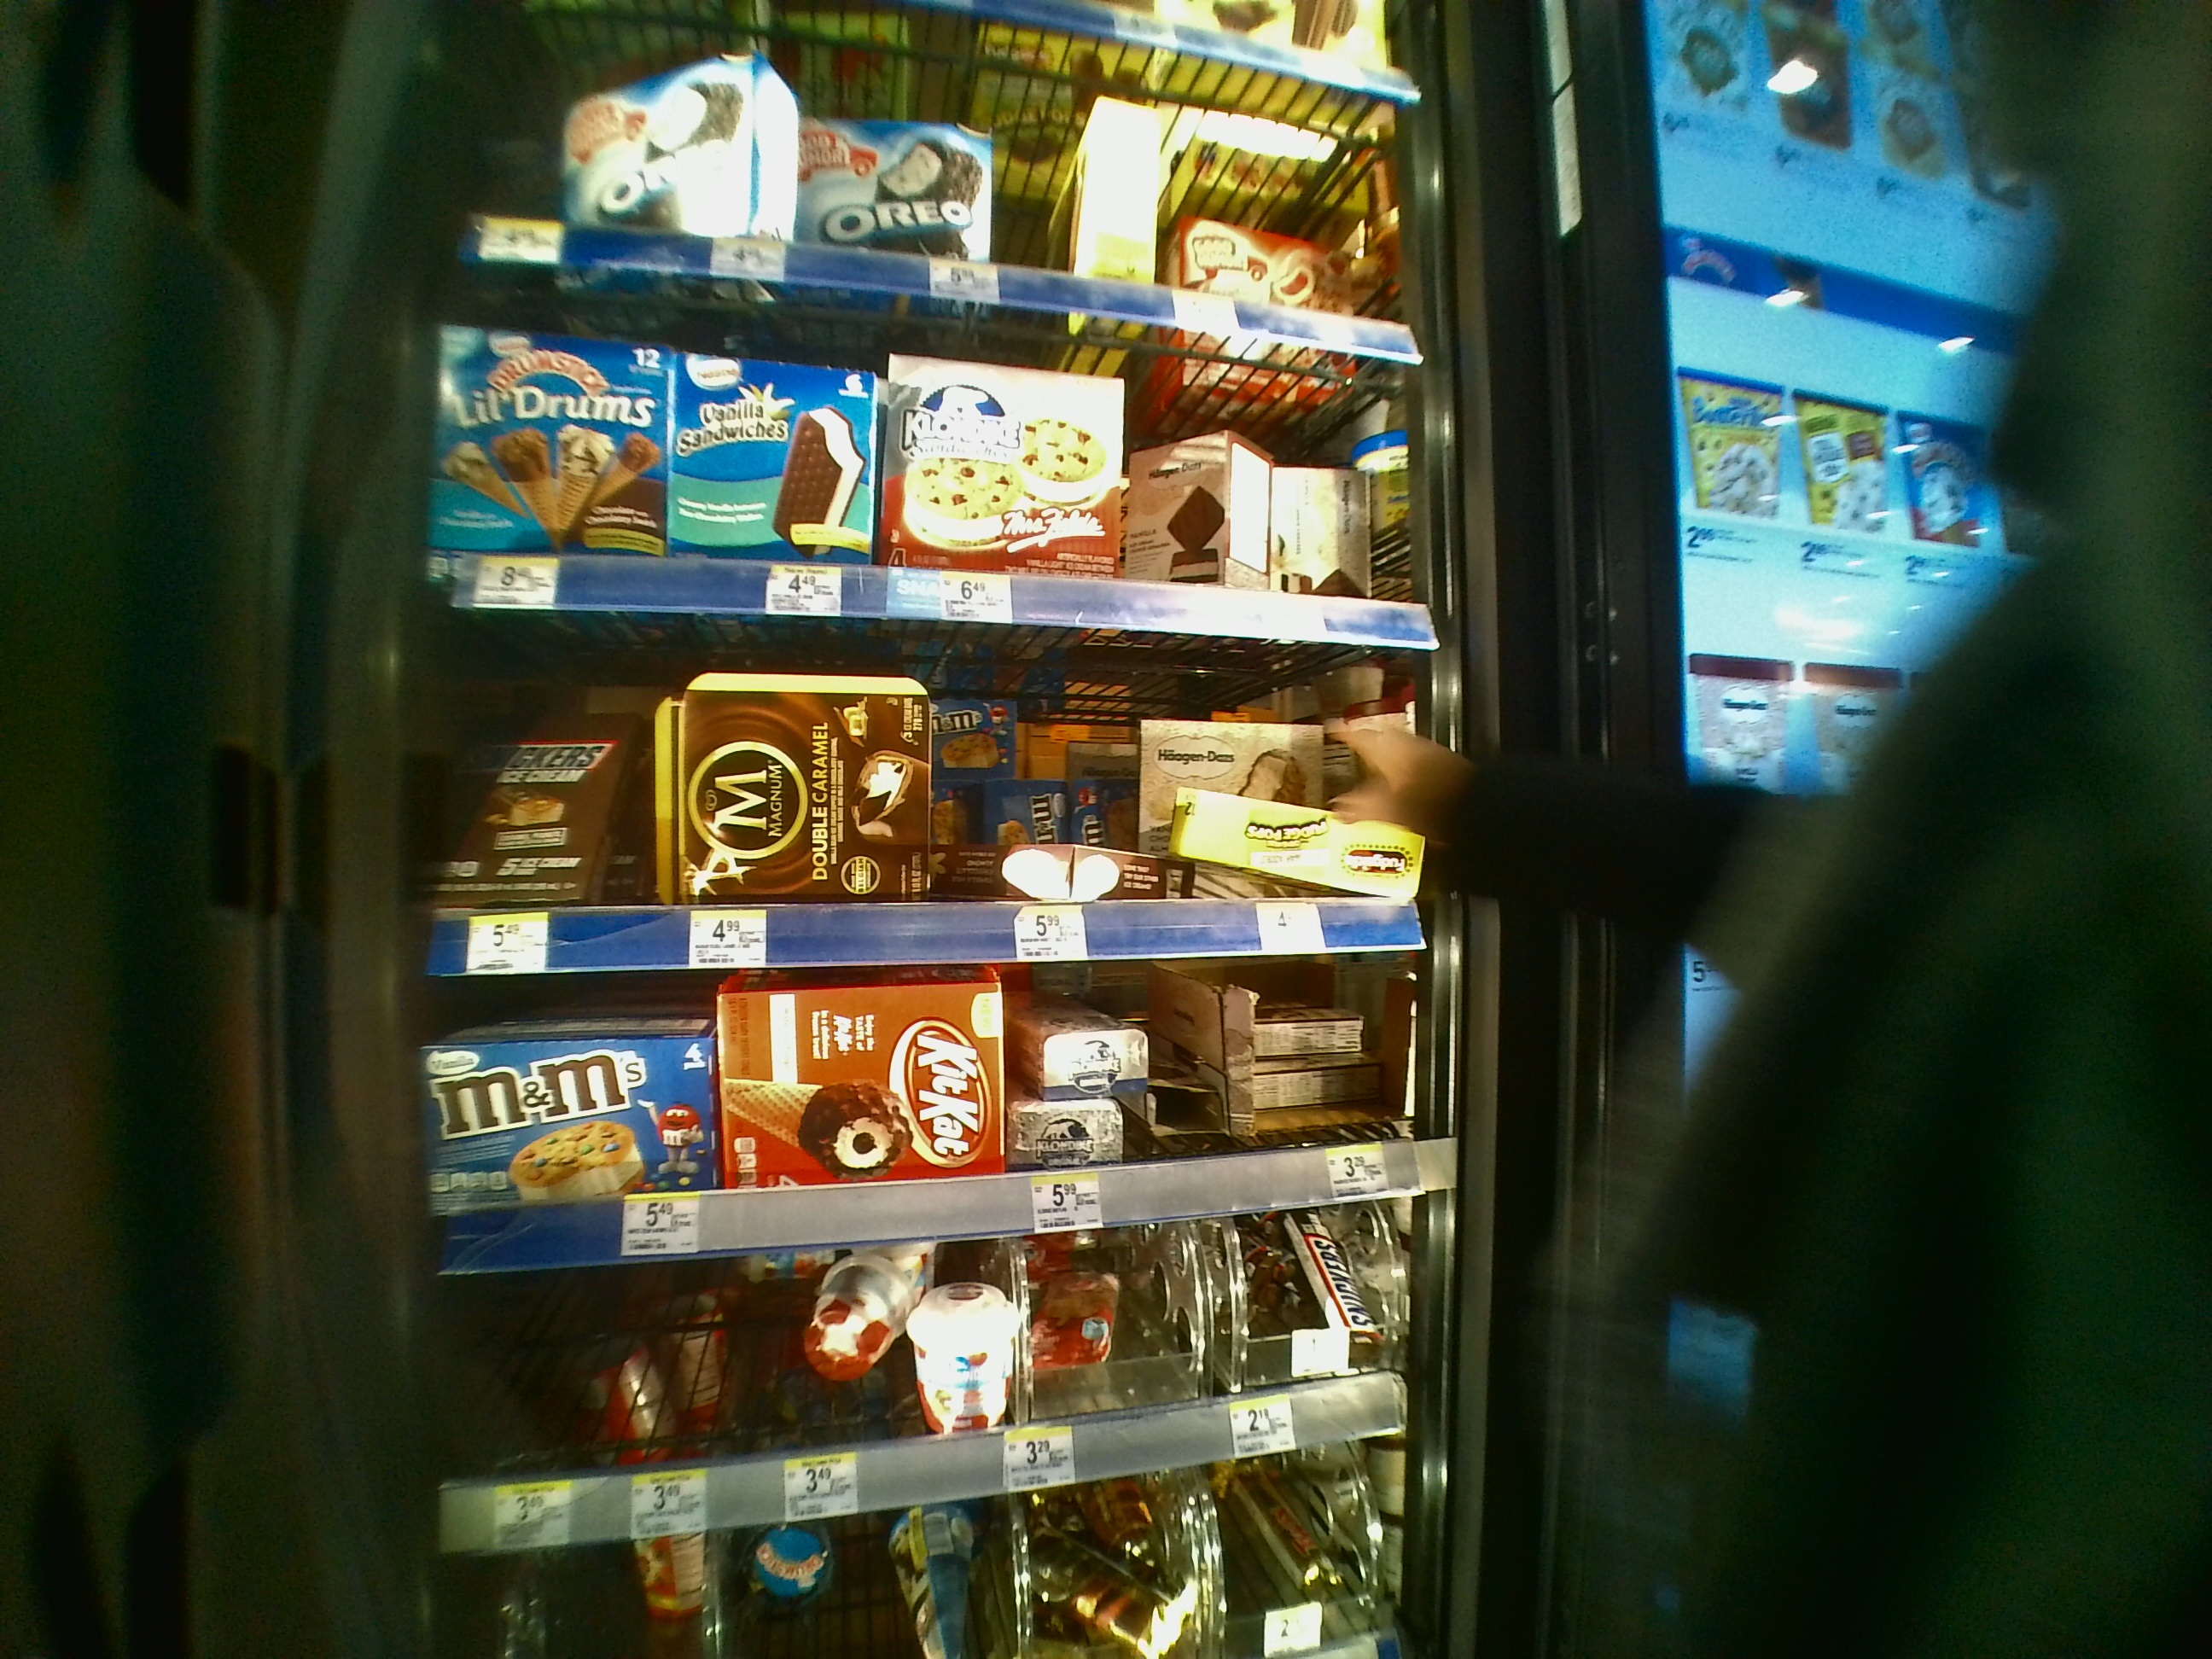shelf: (421, 270, 1428, 619), (420, 627, 1439, 967), (427, 985, 1444, 1270)
